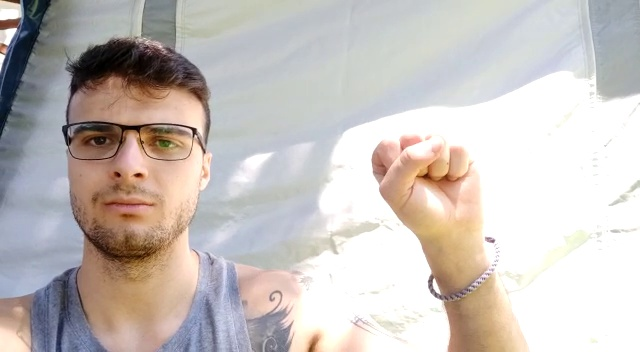Fist: (368, 131, 501, 243)
